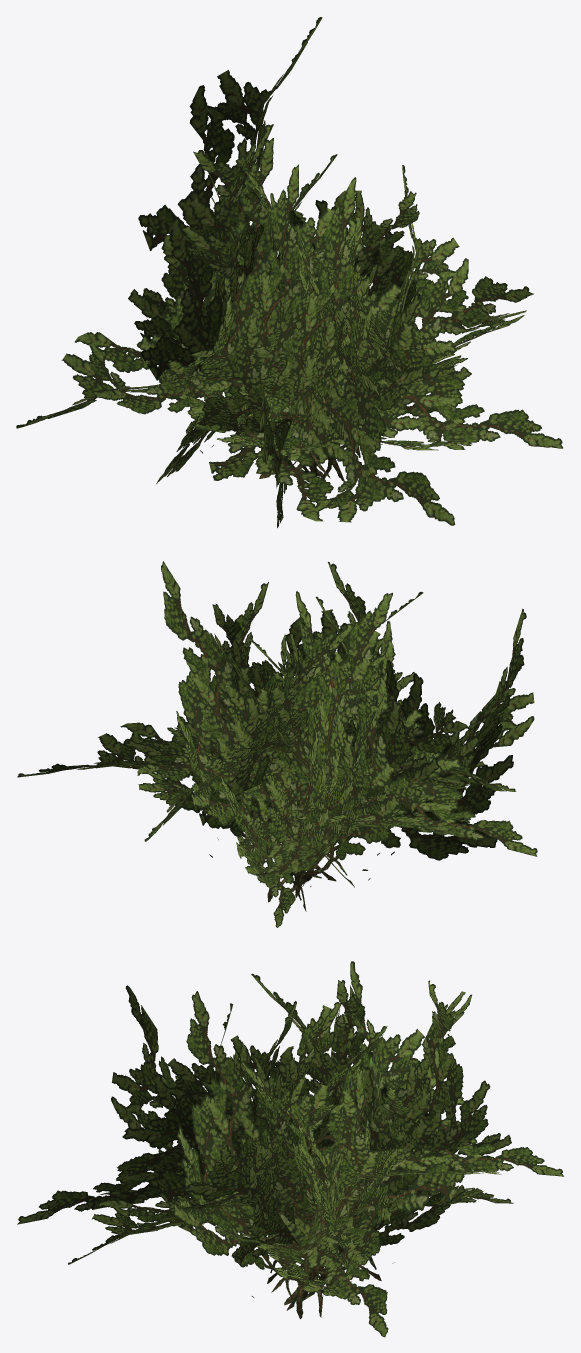
File: SM_TI_Beach_Cabbage_2.fbx
3 views of the same model, one above another, from view 1: azimuth 30°, elevation 25°; view 2: azimuth 150°, elevation 25°; view 3: azimuth 270°, elevation 25° (orthographic). The views are drawn at different scales.
Parts seen in each view (by area): view 1: SM_TI_Beach_Cabbage_2; view 2: SM_TI_Beach_Cabbage_2; view 3: SM_TI_Beach_Cabbage_2.
Part boxes in pixels (x1,y1,x2,y2): SM_TI_Beach_Cabbage_2: (16, 17, 562, 527); SM_TI_Beach_Cabbage_2: (17, 561, 537, 927); SM_TI_Beach_Cabbage_2: (17, 961, 563, 1337).
Size of the model in its own units: 2.79 by 2.68 by 1.97.
